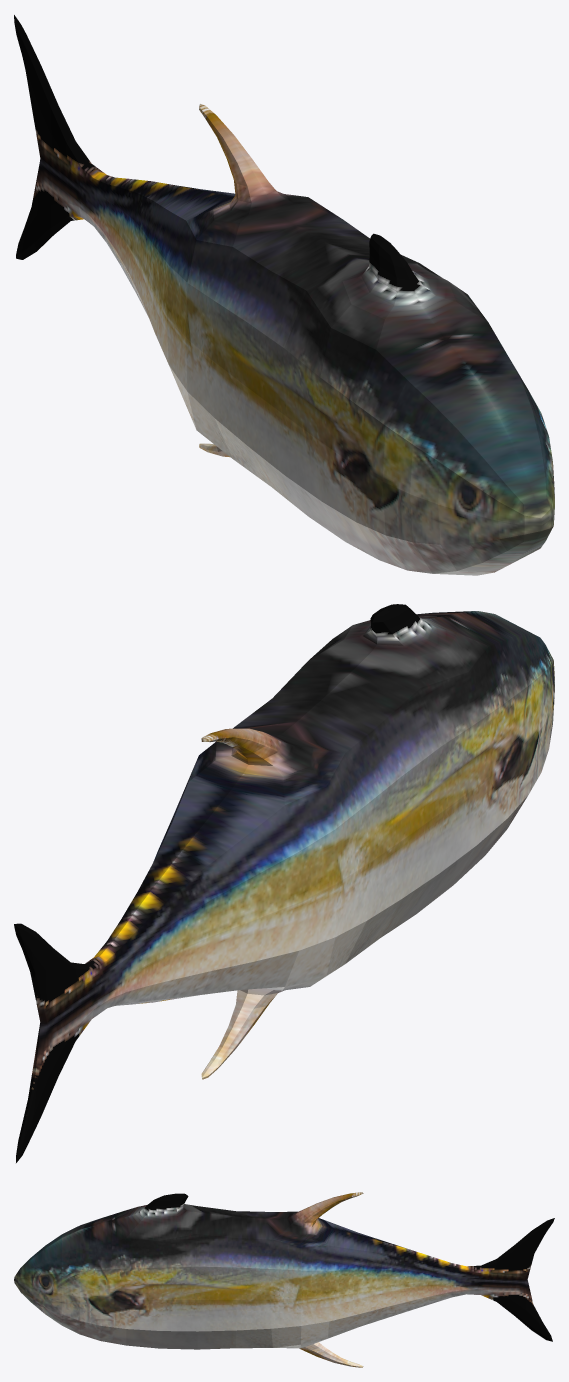
File: Yellowfin_tuna.glb
The picture shows the model from 3 angles, top to bottom: view 1: azimuth 30°, elevation 25°; view 2: azimuth 150°, elevation 25°; view 3: azimuth 270°, elevation 25°; orthographic projection. The views are drawn at different scales.
Parts seen in each view (by area): view 1: Cube; view 2: Cube; view 3: Cube.
Boxes of the visible parts, box(x1,y1,x2,y2) form: Cube: box(14, 15, 554, 575); Cube: box(14, 604, 554, 1162); Cube: box(14, 1192, 554, 1367).
Size of the model in its own units: 1.23 by 2.49 by 6.98.
1 material, 1 textured.
